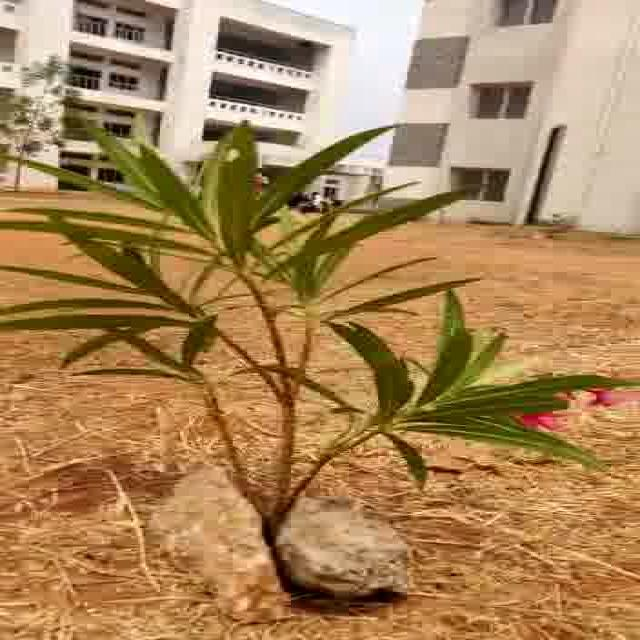Oleander: (40, 108, 595, 460)
